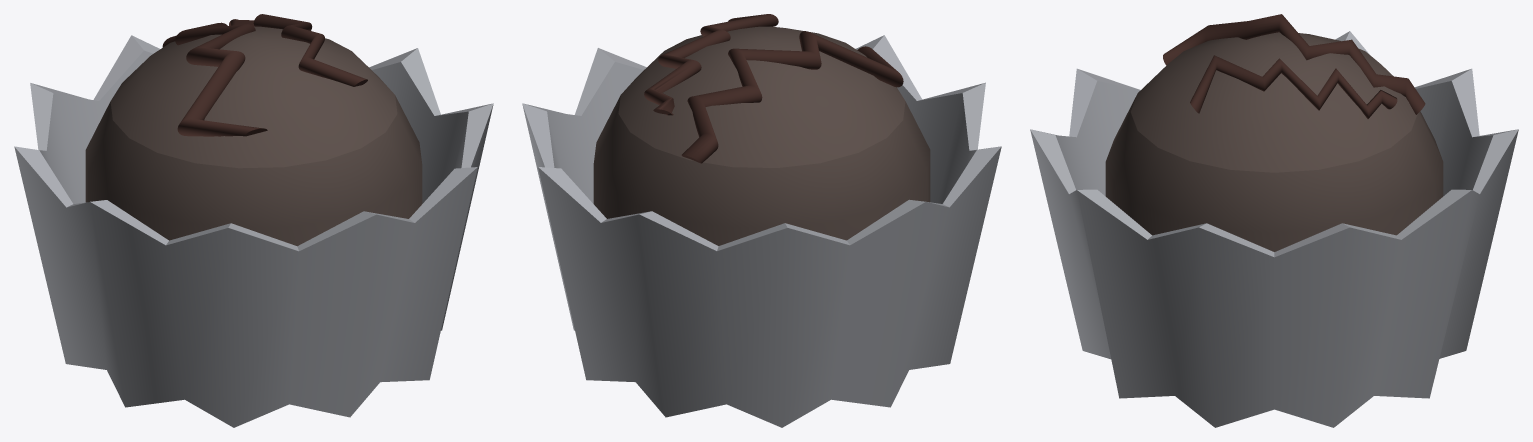
The model's file is choco.fbx.
The picture shows the model from 3 angles, left to right: view 1: azimuth 30°, elevation 25°; view 2: azimuth 150°, elevation 25°; view 3: azimuth 270°, elevation 25°; orthographic projection.
Parts seen in each view (by area): view 1: pCylinder5; view 2: pCylinder5; view 3: pCylinder5.
Part boxes in pixels (x1,y1,x2,y2): pCylinder5: (14,14,493,427); pCylinder5: (522,14,1001,427); pCylinder5: (1030,14,1518,427).
Size of the model in its own units: 2.8 by 2.08 by 2.94.
